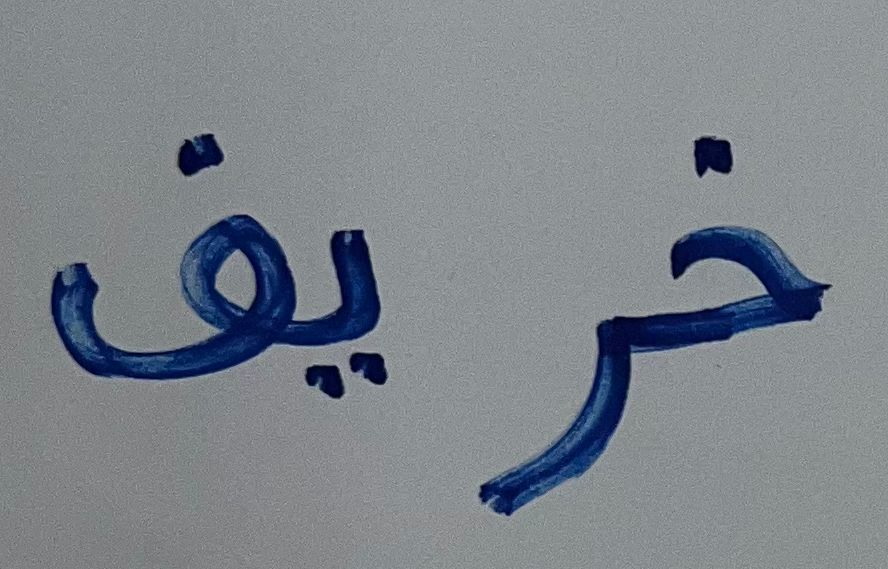heh: (464, 282, 637, 525)
khah: (639, 105, 844, 374)
qaf: (16, 129, 296, 393)
yeh: (298, 210, 414, 423)
